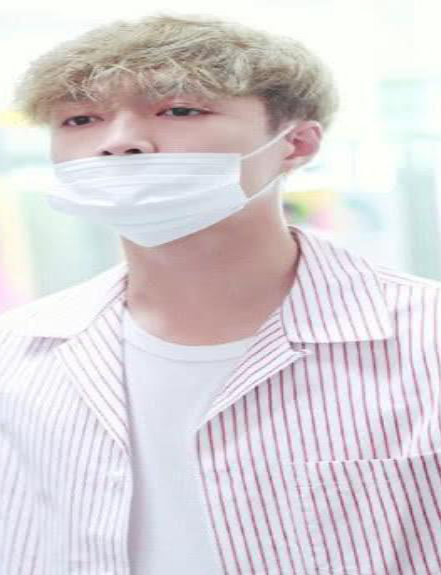mask_weared_incorrect: (40, 97, 273, 251)
